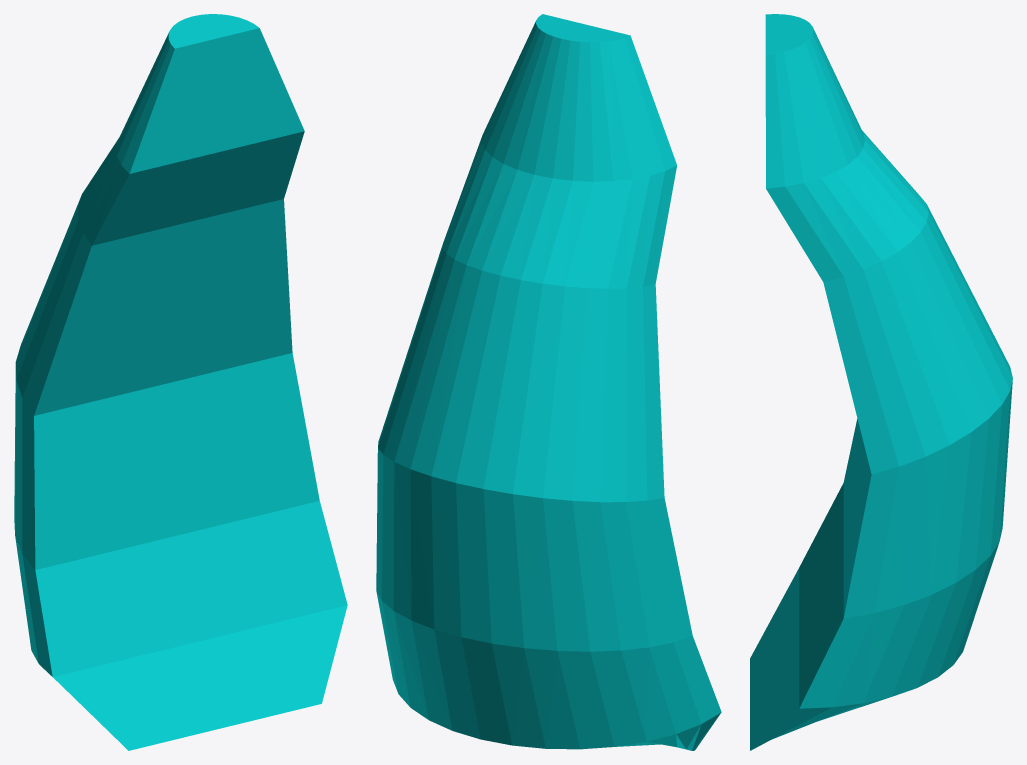
Rendered from griper_arm_right_mesh.001.dae.
The picture shows the model from 3 angles, left to right: view 1: azimuth 30°, elevation 25°; view 2: azimuth 150°, elevation 25°; view 3: azimuth 270°, elevation 25°; orthographic projection. The views are drawn at different scales.
Parts seen in each view (by area): view 1: griper_arm_right_000; view 2: griper_arm_right_000; view 3: griper_arm_right_000.
Boxes of the visible parts, x1,y1,x2,y2 form: griper_arm_right_000: [14, 14, 347, 750]; griper_arm_right_000: [376, 14, 721, 750]; griper_arm_right_000: [750, 14, 1012, 750].
Size of the model in its own units: 5.19 by 4.08 by 11.55.
